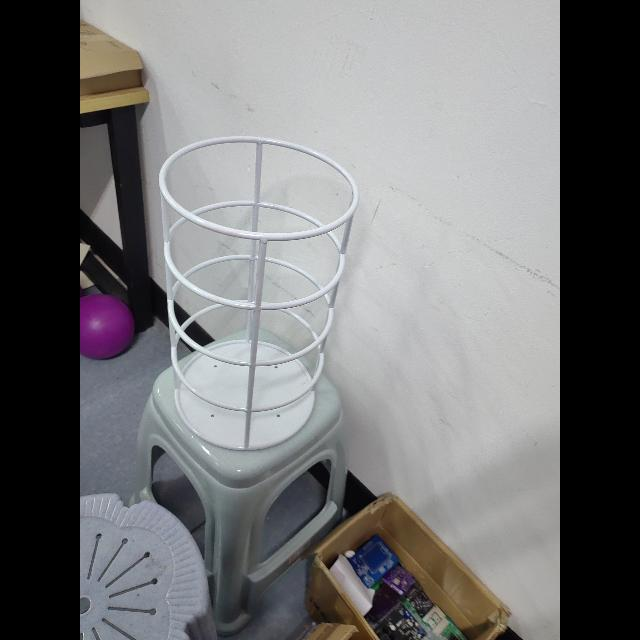S: (154, 132, 362, 456)
